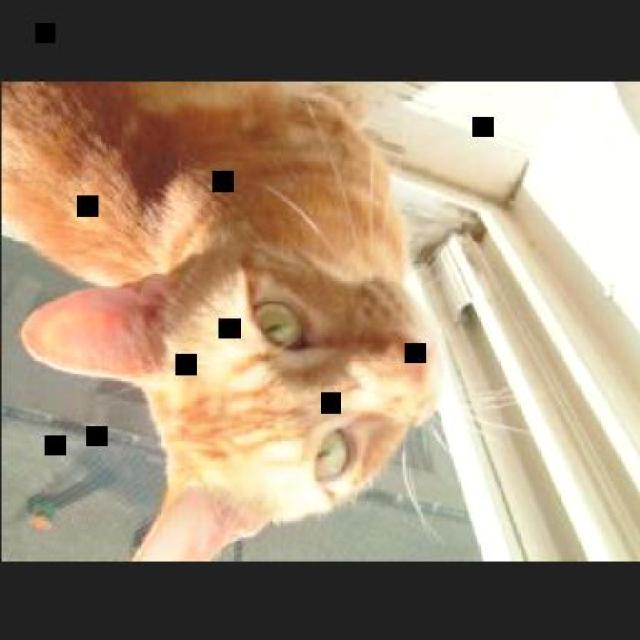unauthorized: (0, 80, 446, 560)
